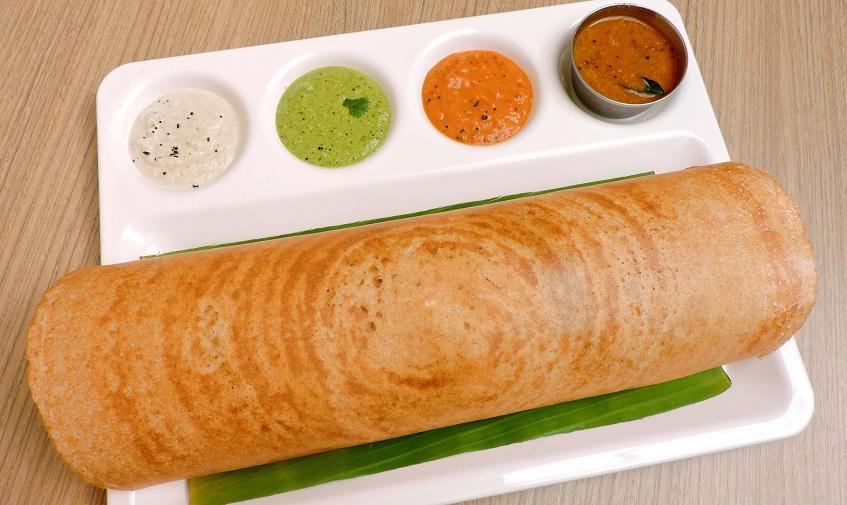dosa: (23, 163, 819, 492)
